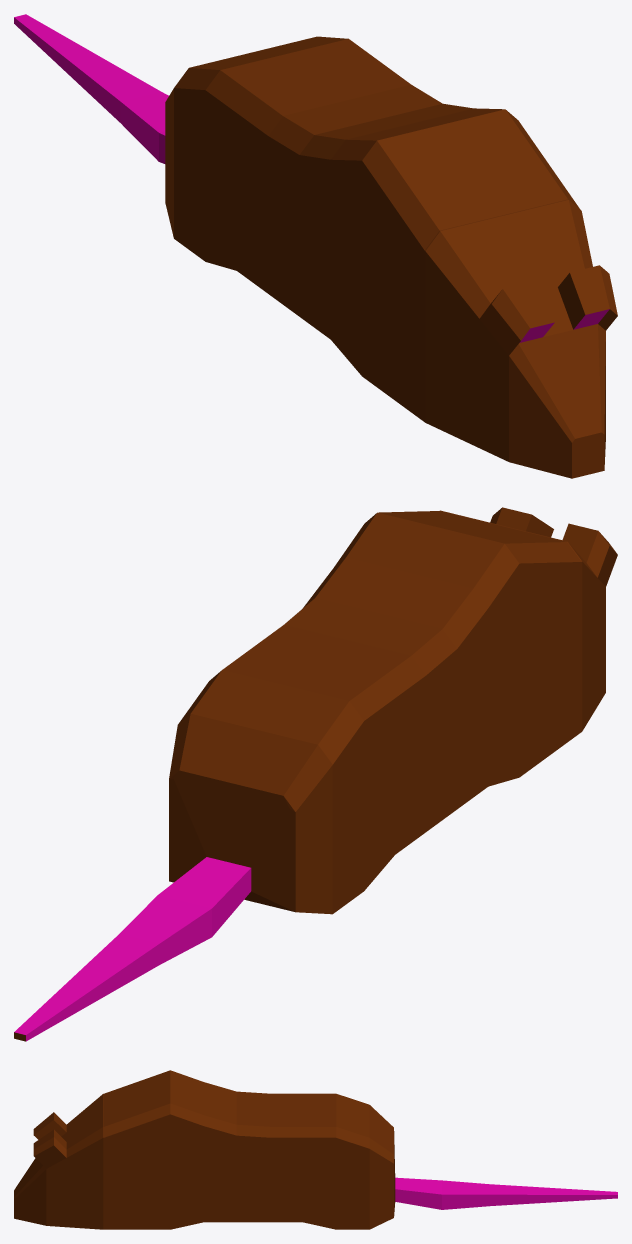
File: Mouse.fbx
The picture shows the model from 3 angles, top to bottom: view 1: azimuth 30°, elevation 25°; view 2: azimuth 150°, elevation 25°; view 3: azimuth 270°, elevation 25°; orthographic projection. The views are drawn at different scales.
Parts seen in each view (by area): view 1: Cube; view 2: Cube; view 3: Cube.
Boxes of the visible parts, <box> form: Cube: <box>14,14,617,478</box>; Cube: <box>14,507,617,1041</box>; Cube: <box>14,1070,617,1229</box>.
Size of the model in its own units: 119 by 176 by 752.
